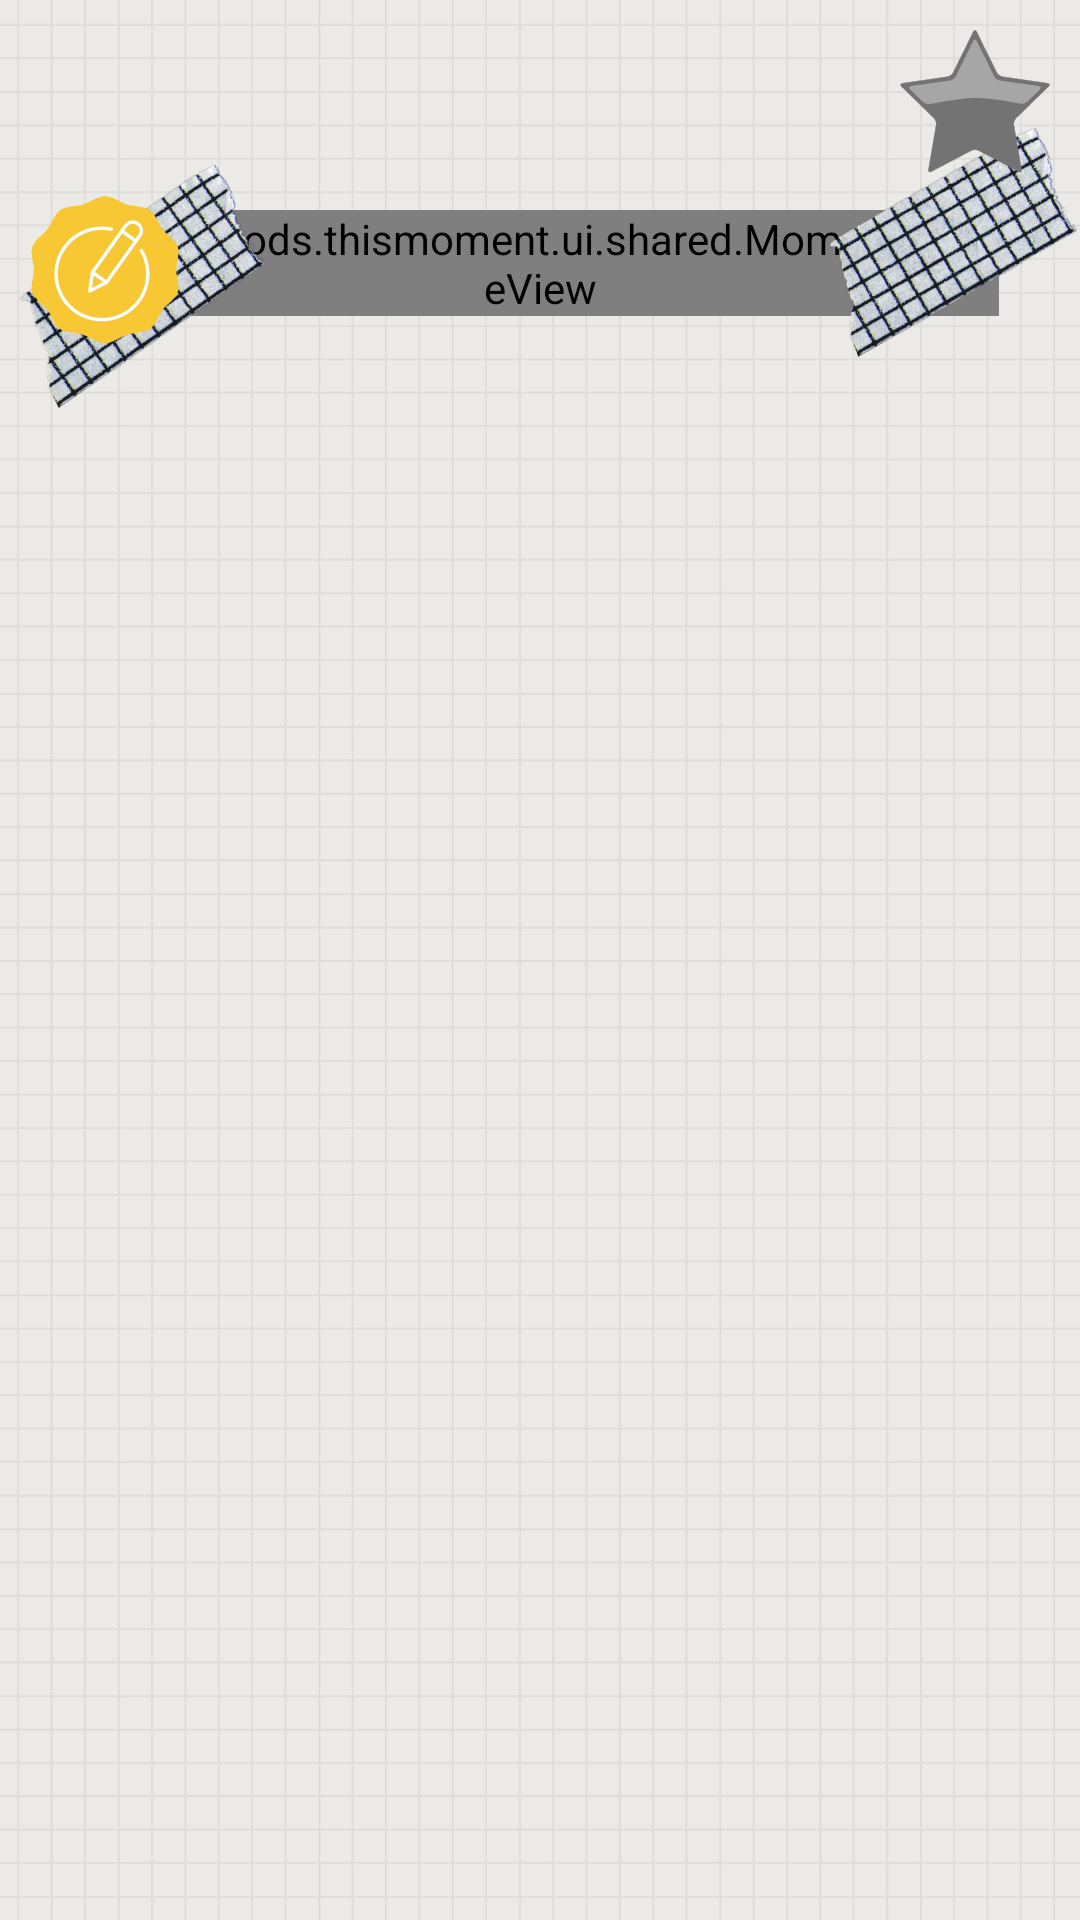

Screen size 1080px x 1920px. Icon name, then its center in pixels as (x,y):
edit button: (105,271)
